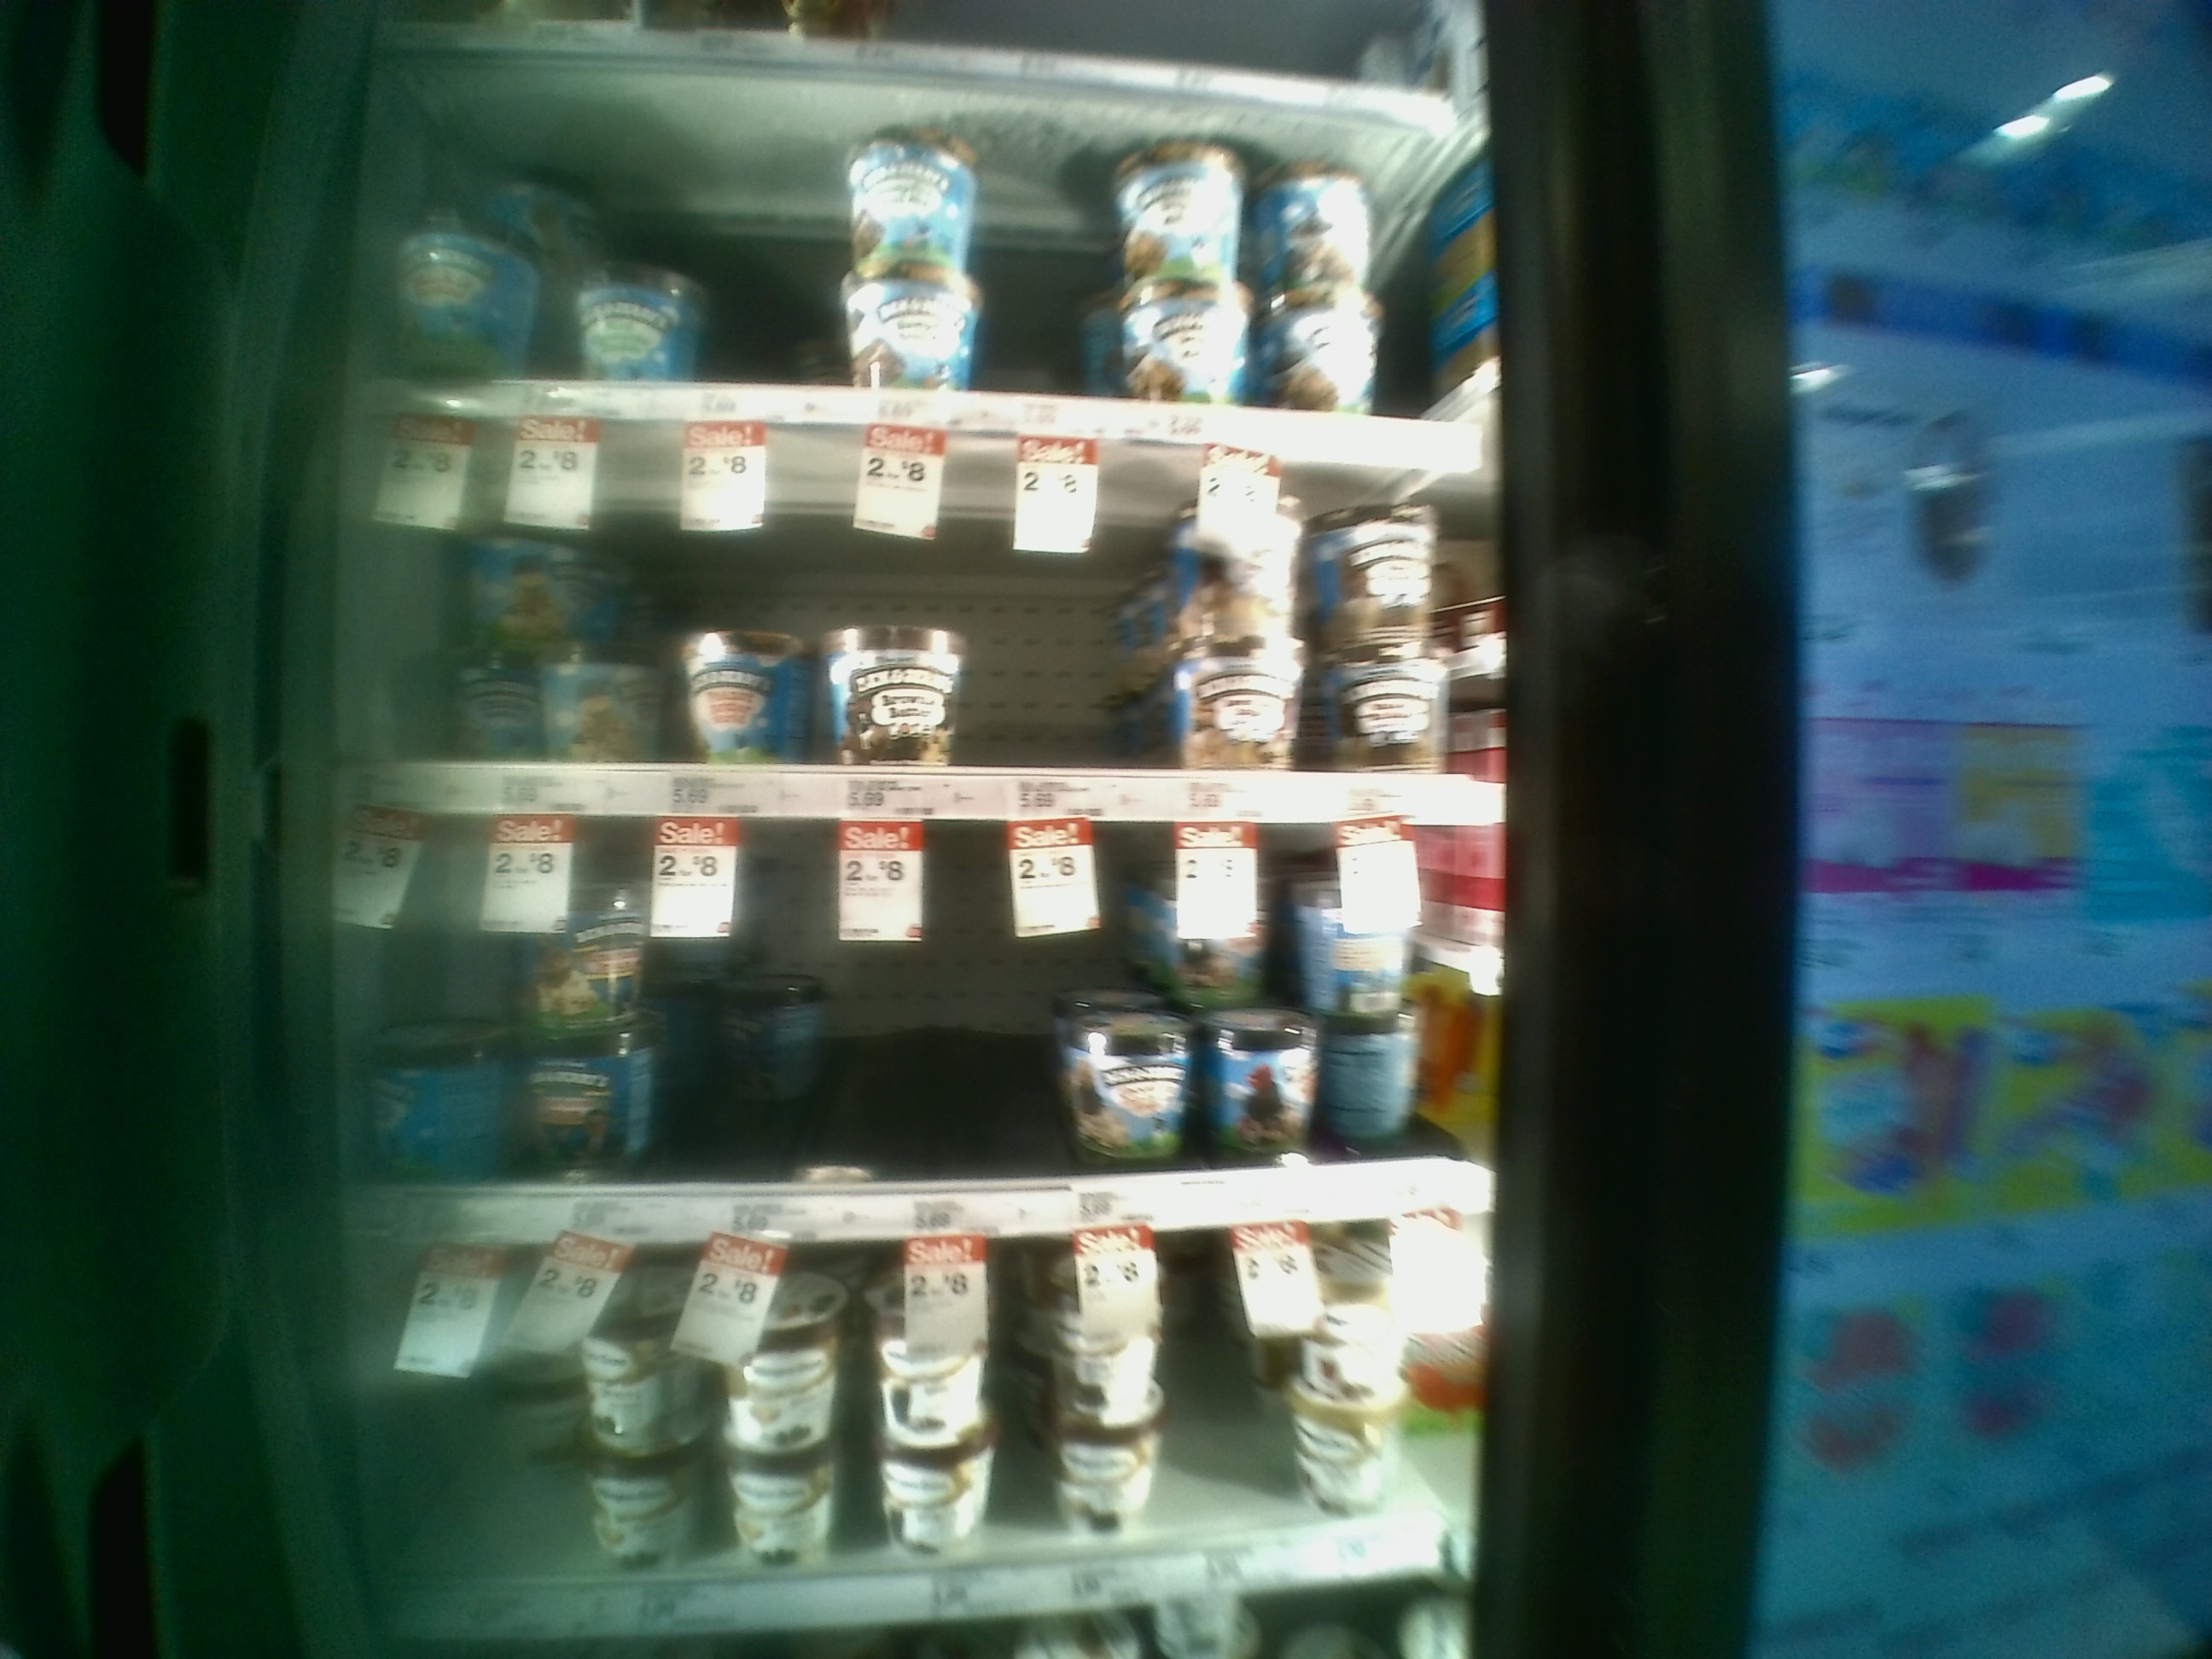shelf: (347, 819, 1505, 1251), (347, 430, 1524, 824)
